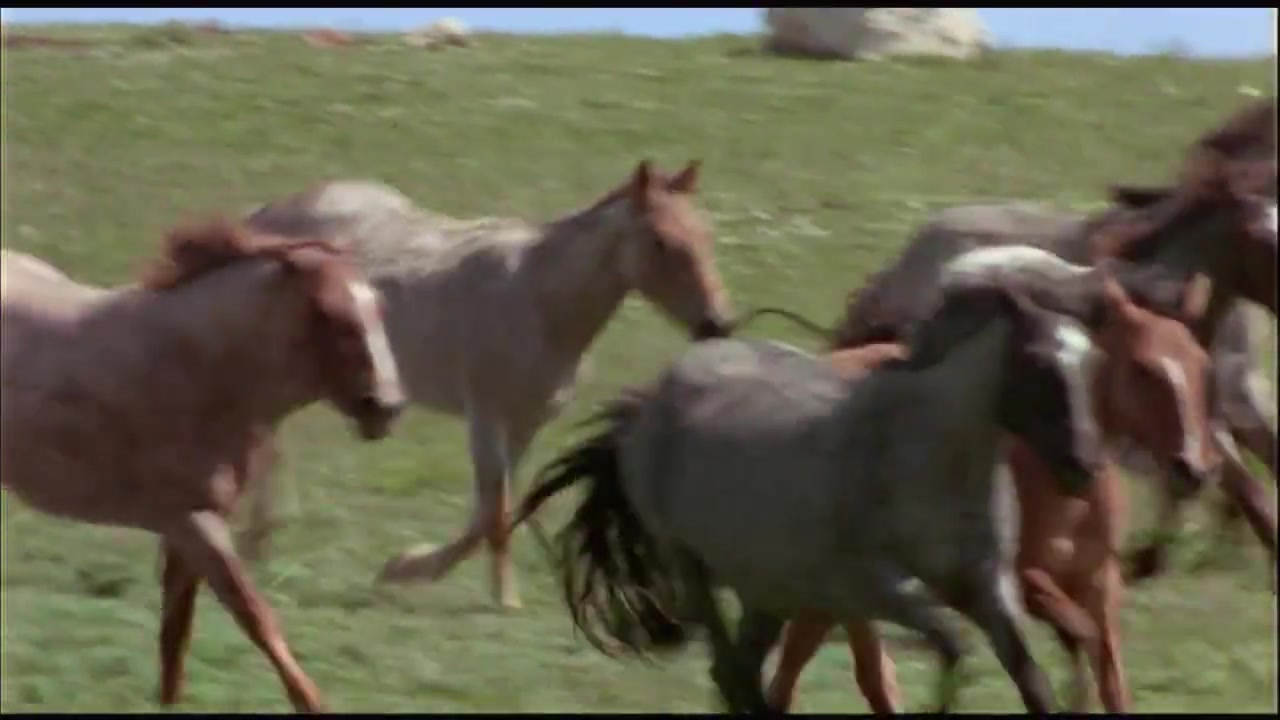horse: (1, 222, 405, 713)
